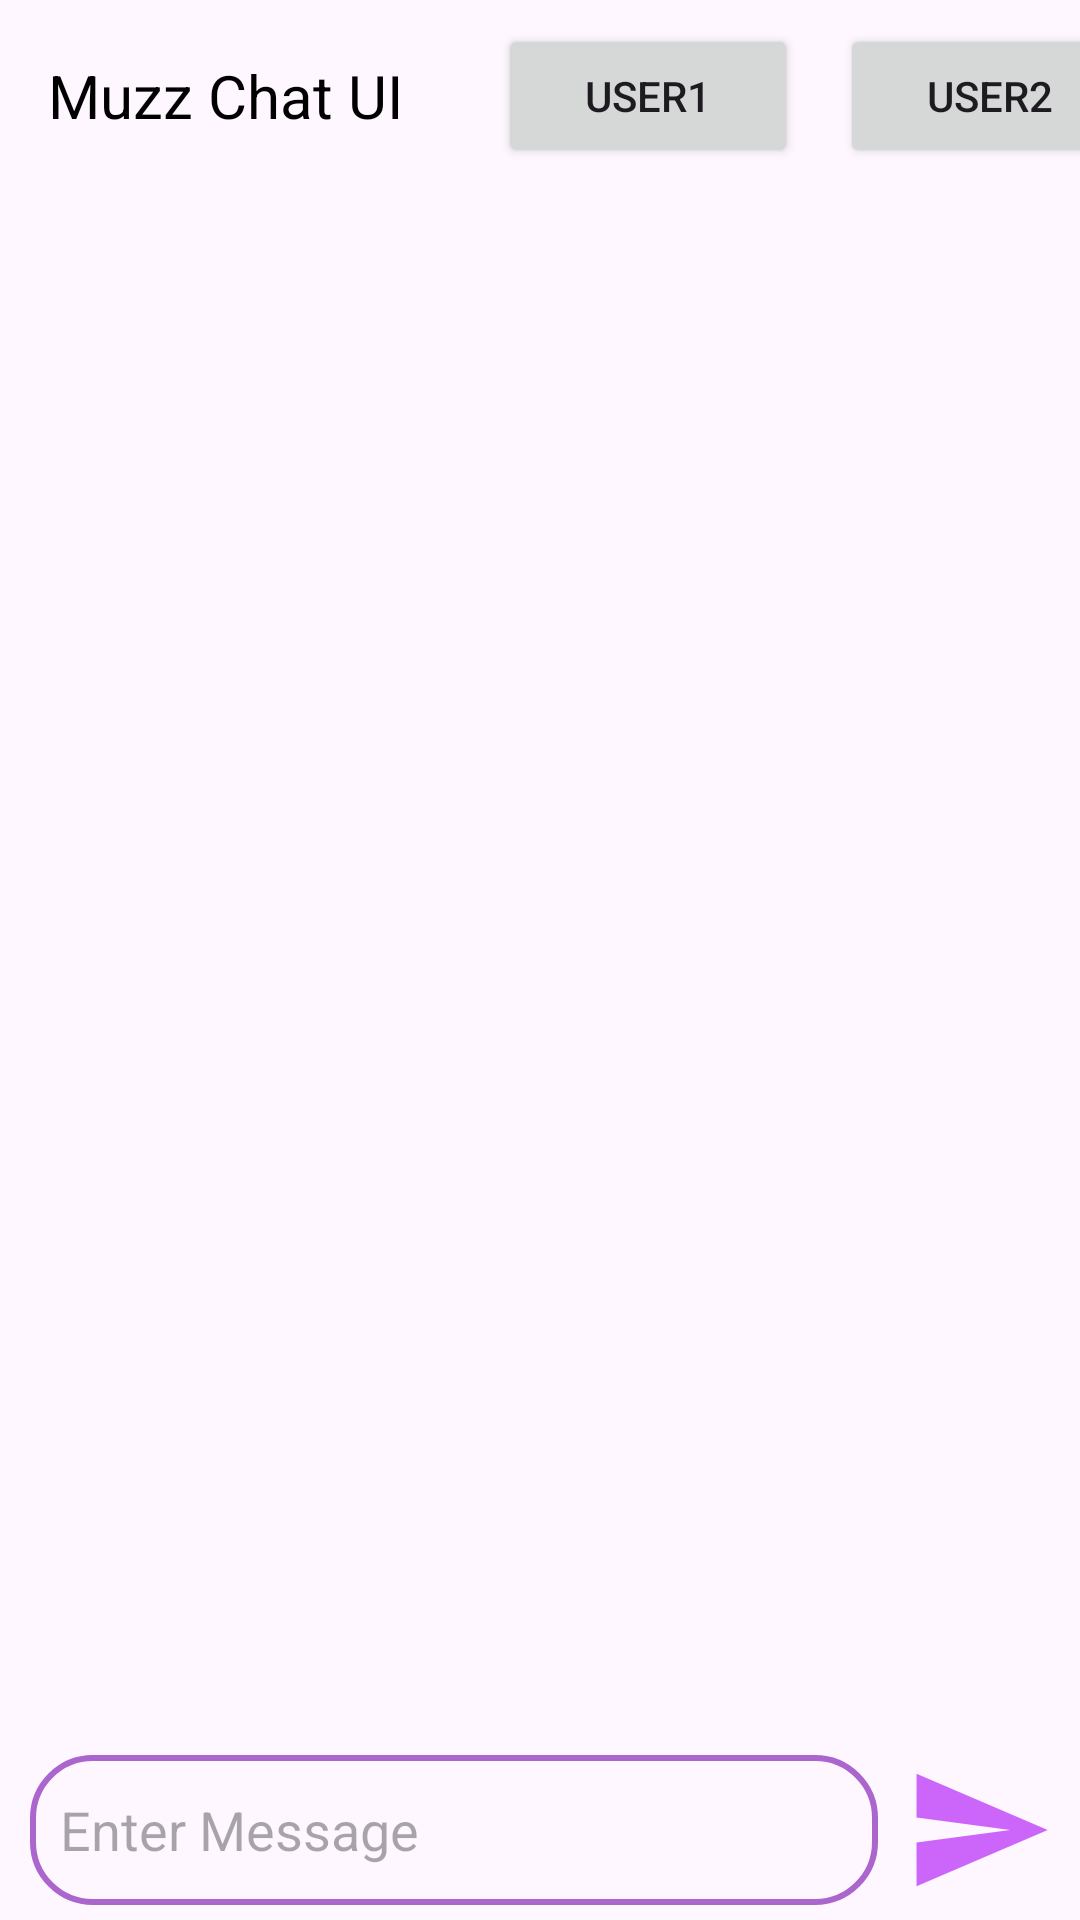

Icons on this 1080x1920 Android screen, each with its box as BBox(x1, y1, x2, y2):
send: BBox(916, 1774, 1047, 1886)
